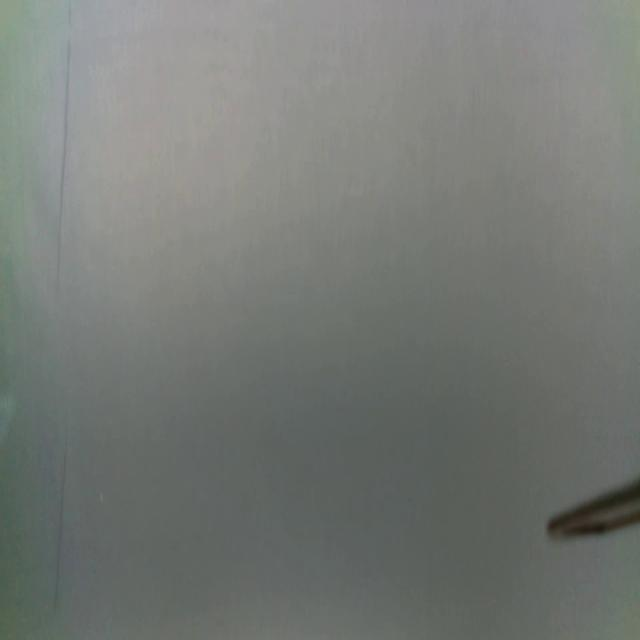crease: (54, 2, 76, 300), (53, 440, 70, 610)
